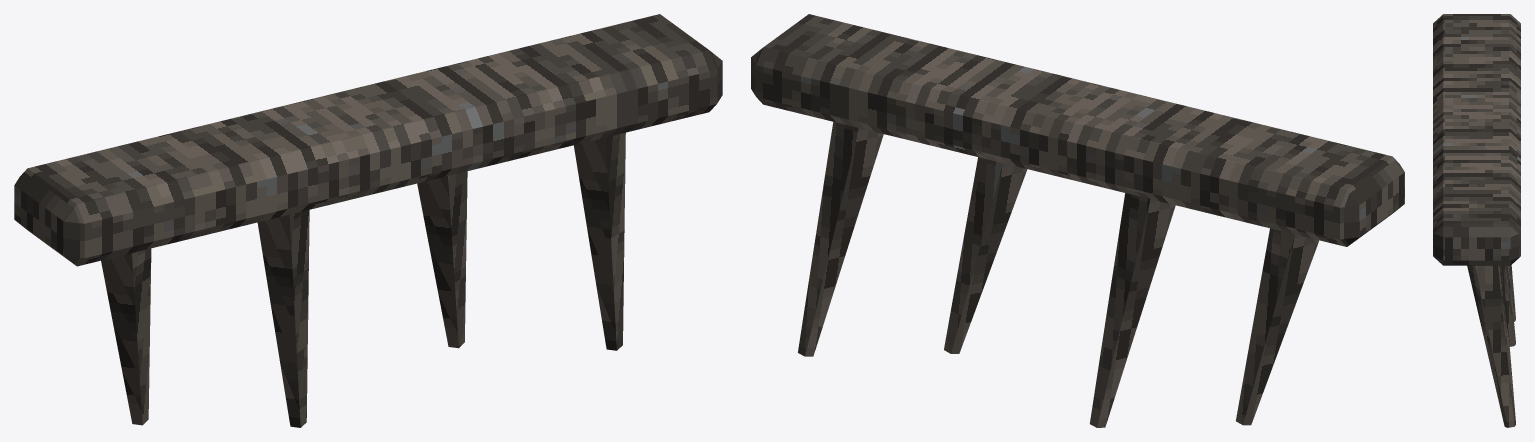
Rendered from beira_reta.fbx.
The picture shows the model from 3 angles, left to right: view 1: azimuth 30°, elevation 25°; view 2: azimuth 150°, elevation 25°; view 3: azimuth 270°, elevation 25°; orthographic projection. The views are drawn at different scales.
Visible parts, largest first — view 1: neve_beira_reta; view 2: neve_beira_reta; view 3: neve_beira_reta.
Part boxes in pixels (box(x1,y1,x2,y2)): neve_beira_reta: box(14, 14, 722, 427); neve_beira_reta: box(751, 14, 1404, 427); neve_beira_reta: box(1433, 14, 1520, 427).
Size of the model in its own units: 100 by 46.71 by 17.
1 material, 1 textured.
